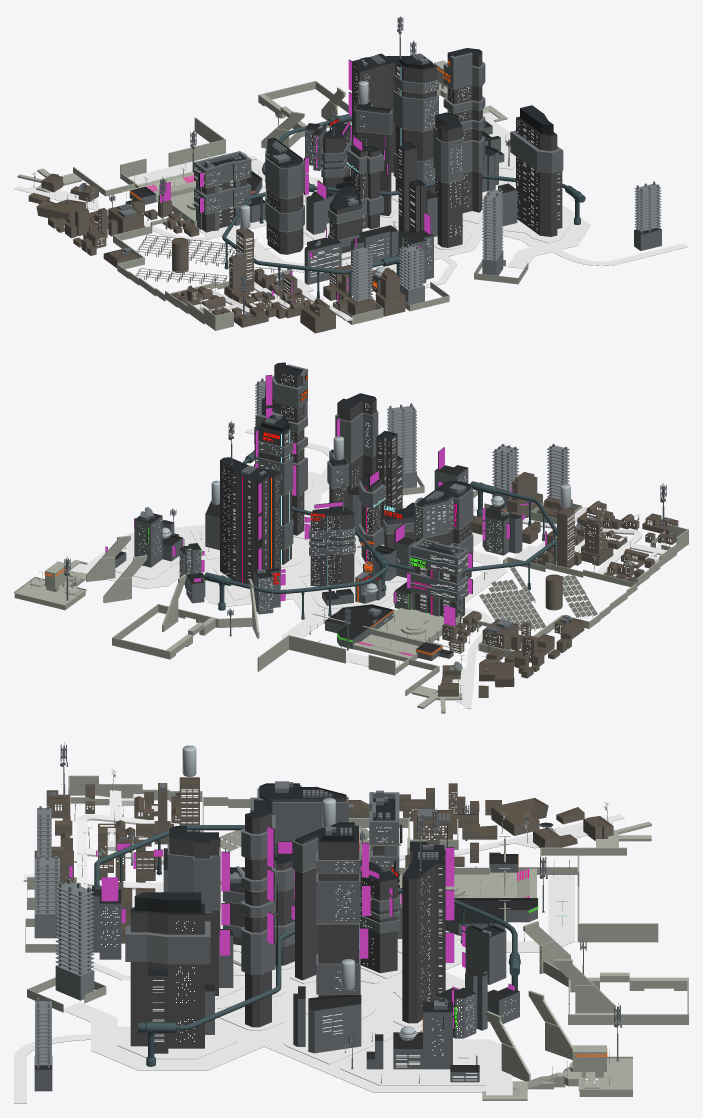
Rendered from CuberpunkCityWithKaws.gltf.
The picture shows the model from 3 angles, top to bottom: view 1: azimuth 30°, elevation 25°; view 2: azimuth 150°, elevation 25°; view 3: azimuth 270°, elevation 25°; orthographic projection. The views are drawn at different scales.
Visible parts, largest first — view 1: Cuberpunk2077.001; view 2: Cuberpunk2077.001; view 3: Cuberpunk2077.001.
Boxes of the visible parts, x1,y1,x2,y2 form: Cuberpunk2077.001: (14, 16, 688, 333); Cuberpunk2077.001: (14, 362, 688, 713); Cuberpunk2077.001: (14, 742, 688, 1103).
Size of the model in its own units: 20.43 by 6.92 by 19.65.
